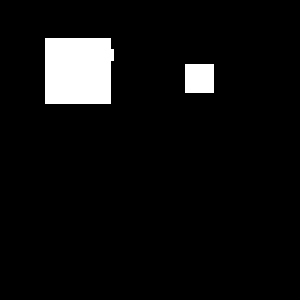circle: (45, 38, 111, 104), (185, 64, 214, 93), (102, 49, 114, 61)
